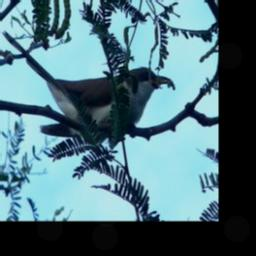Cuckoo: (0, 27, 174, 151)
